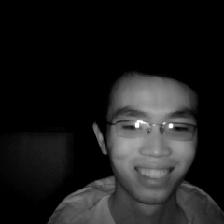happy: (86, 52, 208, 217)
